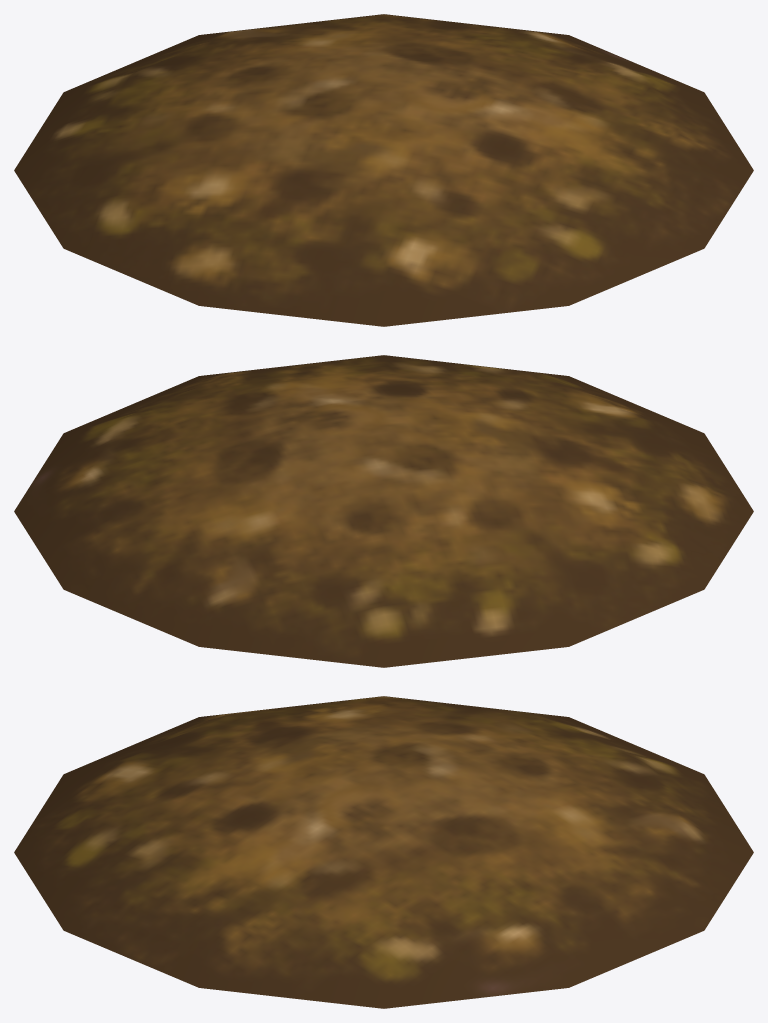
The model's file is soil.fbx.
3 renders of one model, top to bottom at view 1: azimuth 30°, elevation 25°; view 2: azimuth 150°, elevation 25°; view 3: azimuth 270°, elevation 25°, orthographic.
Parts seen in each view (by area): view 1: soil; view 2: soil; view 3: soil.
Part boxes in pixels (x1,y1,x2,y2): soil: [14, 14, 753, 326]; soil: [14, 355, 753, 667]; soil: [14, 696, 753, 1008].
Bounding box in the file's own units: 535 × 61.26 × 535.
